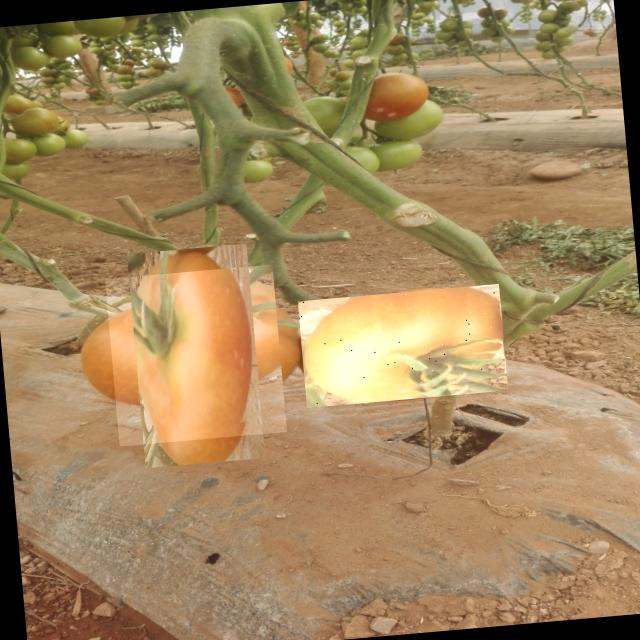Unripe Tomato: (105, 264, 286, 446), (297, 284, 508, 408)
